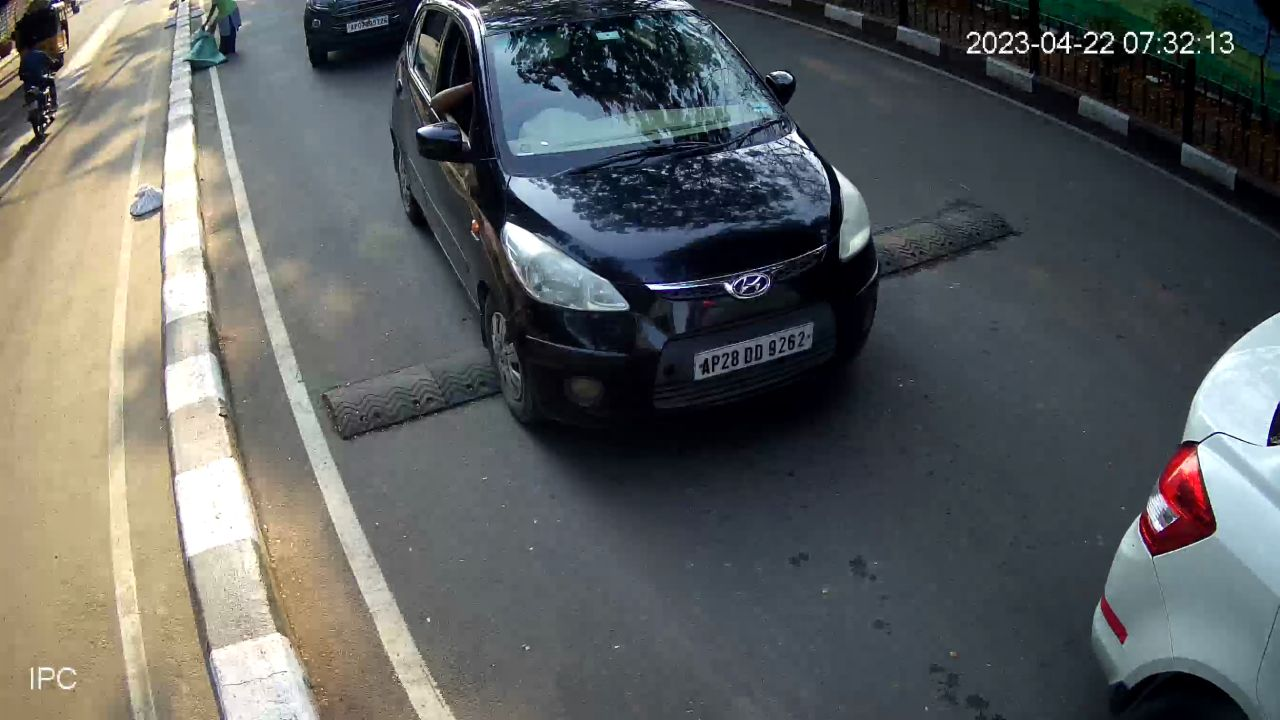license_plate: (691, 316, 821, 386)
